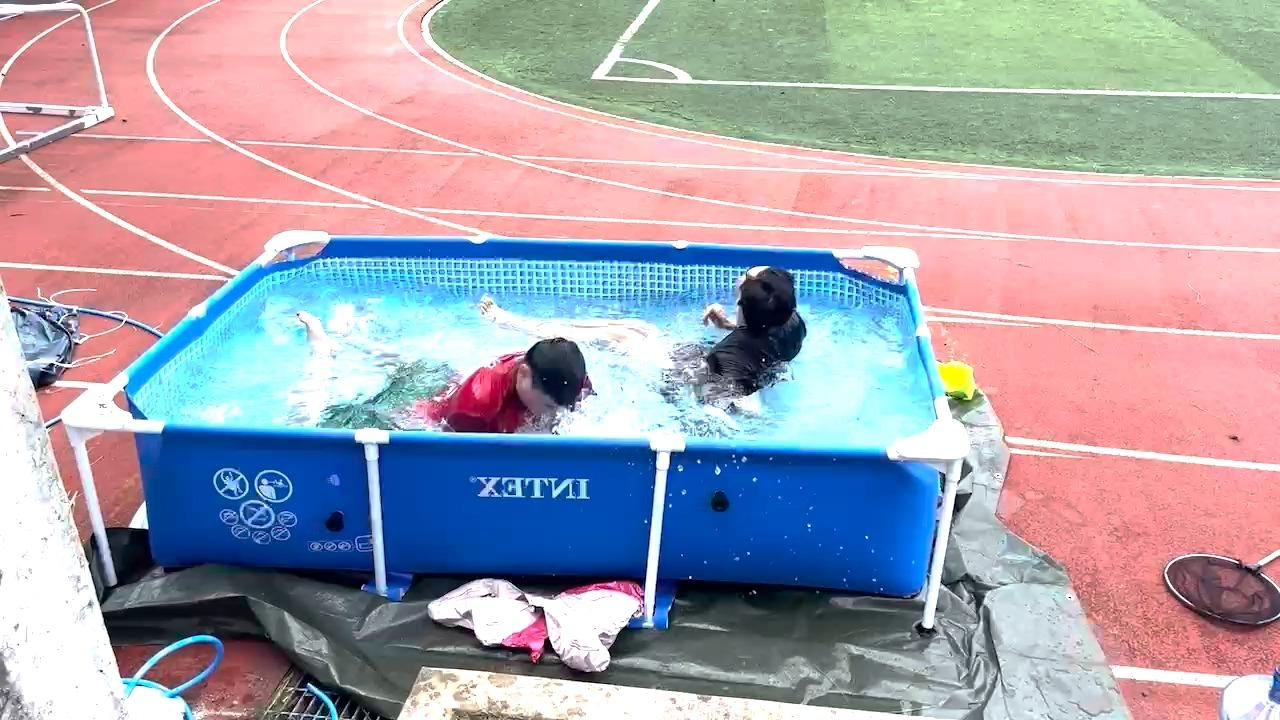Drowning: (251, 330, 609, 437), (630, 246, 829, 411)
